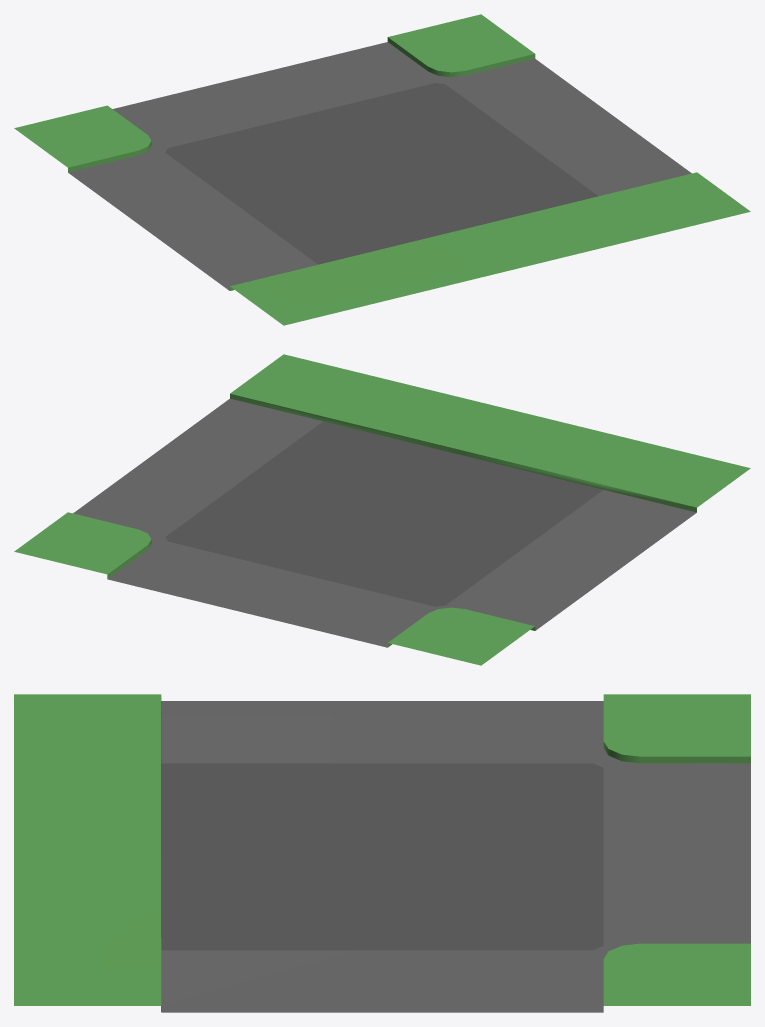
The model's file is Road_TJoin_Up.fbx.
3 renders of one model, top to bottom at view 1: azimuth 30°, elevation 25°; view 2: azimuth 150°, elevation 25°; view 3: azimuth 270°, elevation 25°, orthographic. The views are drawn at different scales.
Visible parts, largest first — view 1: Road_TJoin_Up; view 2: Road_TJoin_Up; view 3: Road_TJoin_Up.
Part boxes in pixels (x1,y1,x2,y2): Road_TJoin_Up: [14, 14, 750, 325]; Road_TJoin_Up: [14, 354, 750, 665]; Road_TJoin_Up: [14, 694, 750, 1012].
Bounding box in the file's own units: 1000 × 10 × 1000.
